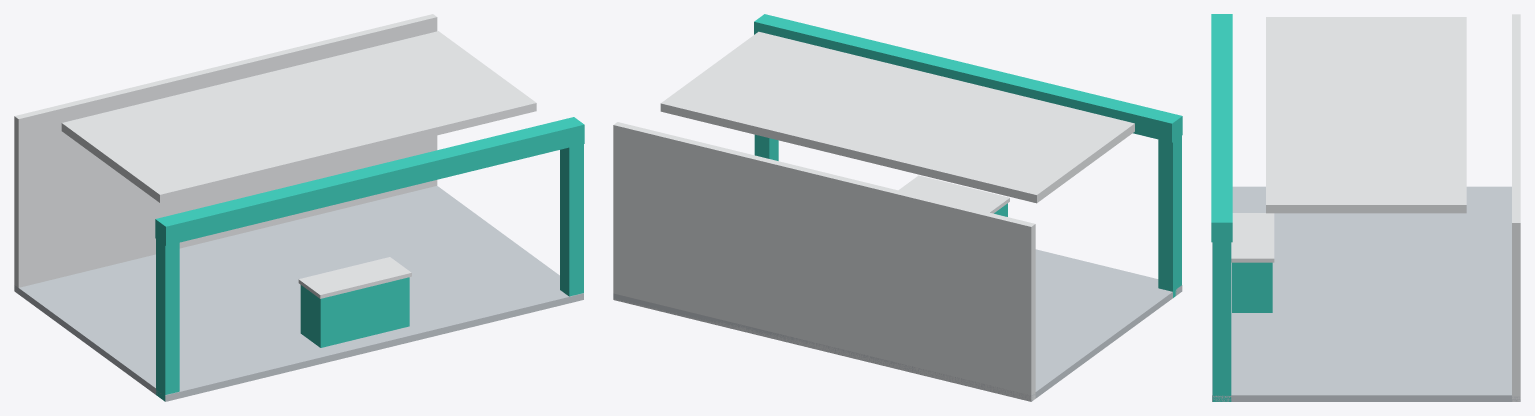
The picture shows the model from 3 angles, left to right: view 1: azimuth 30°, elevation 25°; view 2: azimuth 150°, elevation 25°; view 3: azimuth 270°, elevation 25°; orthographic projection. The views are drawn at different scales.
Parts seen in each view (by area): view 1: Exhibition Booth Concept; view 2: Exhibition Booth Concept; view 3: Exhibition Booth Concept.
Boxes of the visible parts, box(x1,y1,x2,y2) form: Exhibition Booth Concept: box(14, 14, 584, 401); Exhibition Booth Concept: box(613, 14, 1182, 401); Exhibition Booth Concept: box(1211, 14, 1520, 401).
Bounding box in the file's own units: 8 × 3.34 × 5.02.
